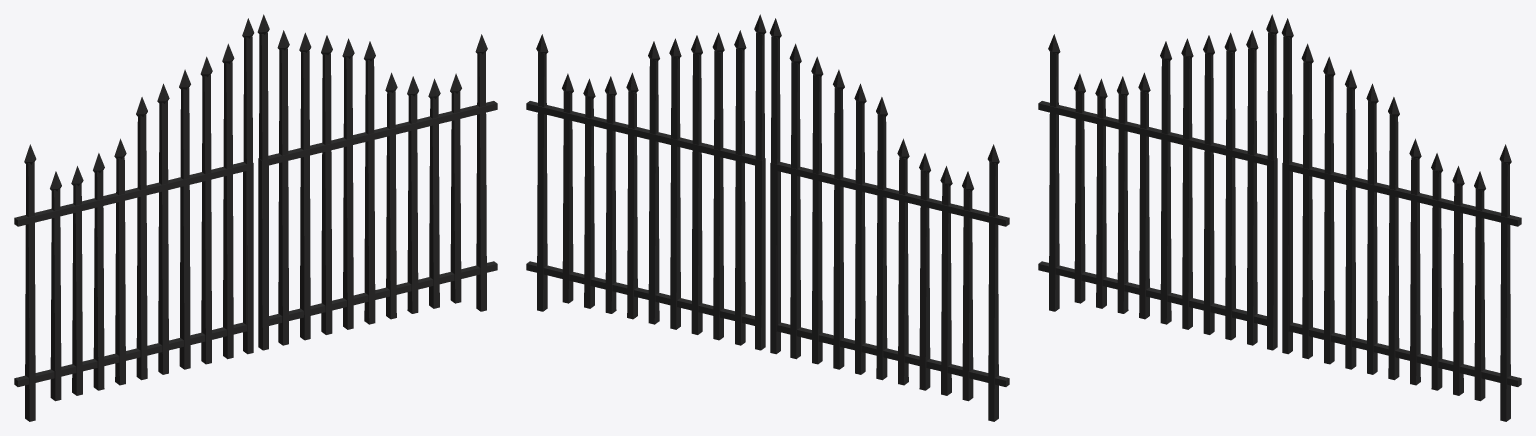
File: gate_both.fbx
3 views of the same model, side by side, from view 1: azimuth 30°, elevation 25°; view 2: azimuth 150°, elevation 25°; view 3: azimuth 330°, elevation 25° (orthographic).
Parts seen in each view (by area): view 1: fence; view 2: fence; view 3: fence.
Part boxes in pixels (left/top/right/bottom): fence: left=14, top=14, right=497, bottom=421; fence: left=526, top=14, right=1009, bottom=421; fence: left=1038, top=14, right=1521, bottom=421.
Size of the model in its own units: 3.4 by 2.36 by 0.0582.
